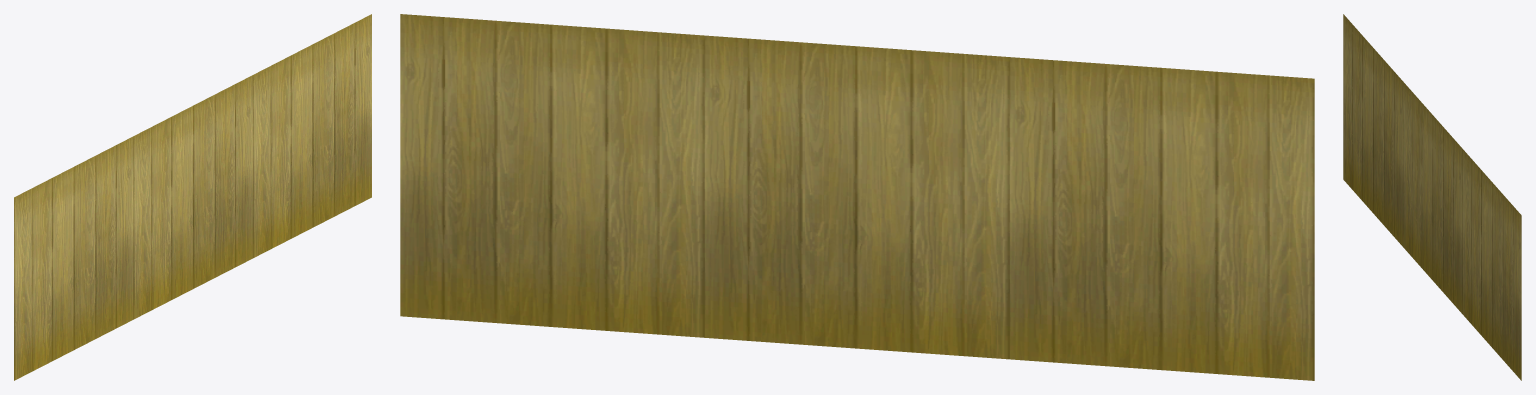
File: HTOWN01_BAGROW2FRONT.fbx
3 views of the same model, side by side, from view 1: azimuth 30°, elevation 25°; view 2: azimuth 150°, elevation 25°; view 3: azimuth 270°, elevation 25° (orthographic). The views are drawn at different scales.
Visible parts, largest first — view 1: HTOWN01_BAGROW2FRONT; view 2: HTOWN01_BAGROW2FRONT; view 3: HTOWN01_BAGROW2FRONT.
Part boxes in pixels (x1=…): HTOWN01_BAGROW2FRONT: x1=14, y1=14, x2=371, y2=380; HTOWN01_BAGROW2FRONT: x1=400, y1=14, x2=1314, y2=380; HTOWN01_BAGROW2FRONT: x1=1343, y1=14, x2=1521, y2=380.
Size of the model in its own units: 87494 by 33614 by 32713.
Materials: 1 (1 with a texture image).
